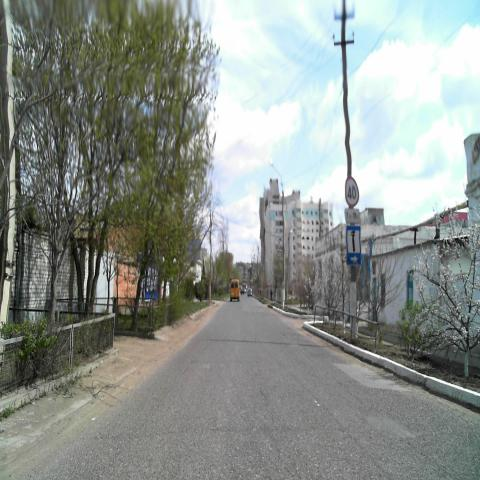7_4: (346, 226, 360, 265)
8_5_4: (344, 207, 360, 224)
